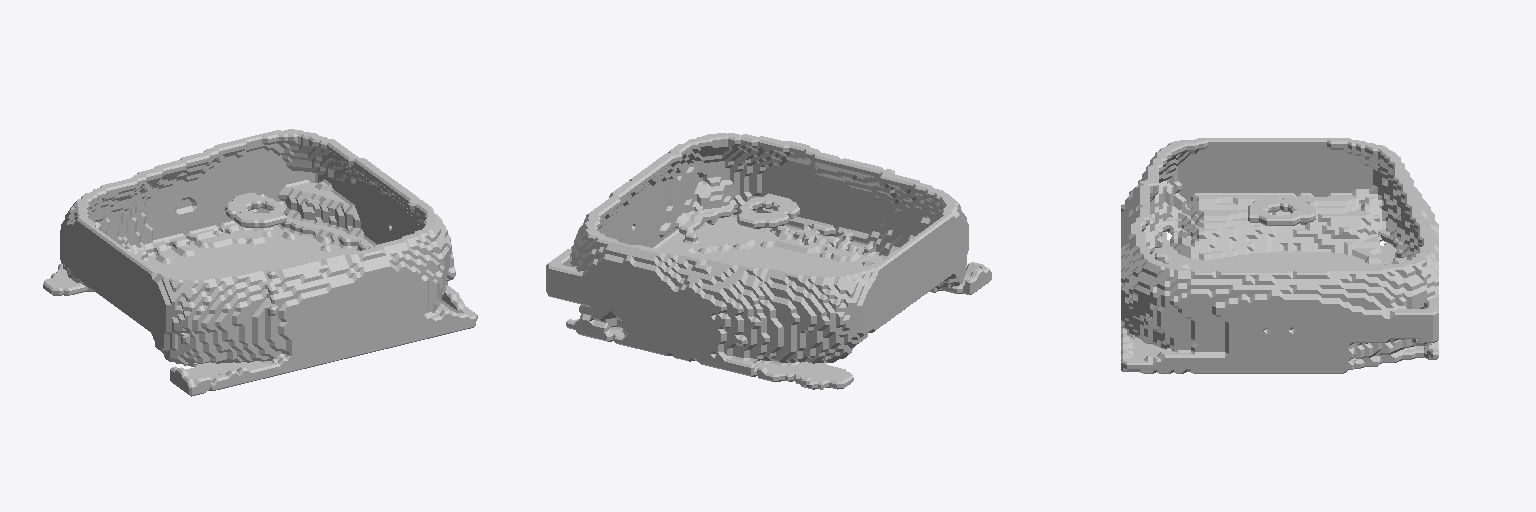
The model's file is Input_surface_mesh.obj.
3 renders of one model, left to right at view 1: azimuth 30°, elevation 25°; view 2: azimuth 150°, elevation 25°; view 3: azimuth 270°, elevation 25°, orthographic.
Size of the model in its own units: 6.32 by 2 by 6.